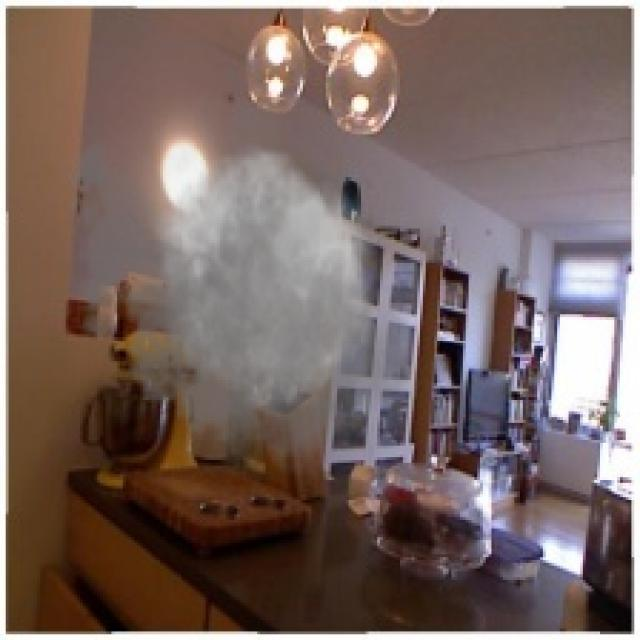Smoke: (57, 74, 429, 489)
